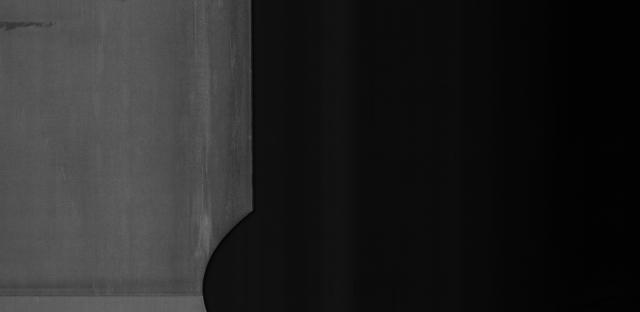crescent_gap: (188, 201, 267, 312)
welding_line: (1, 285, 215, 307)
